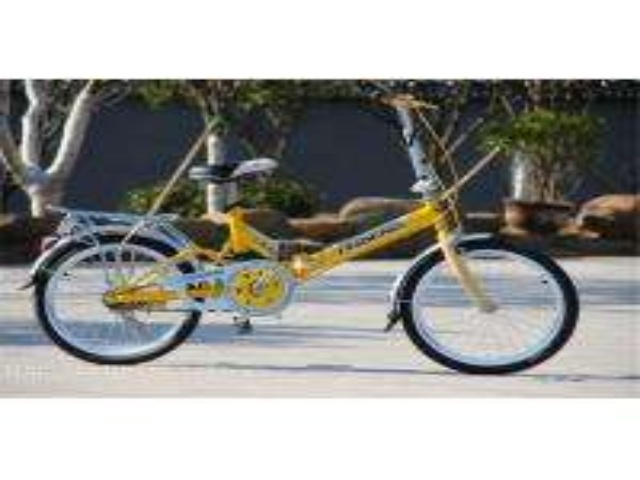bike: (22, 92, 591, 386)
